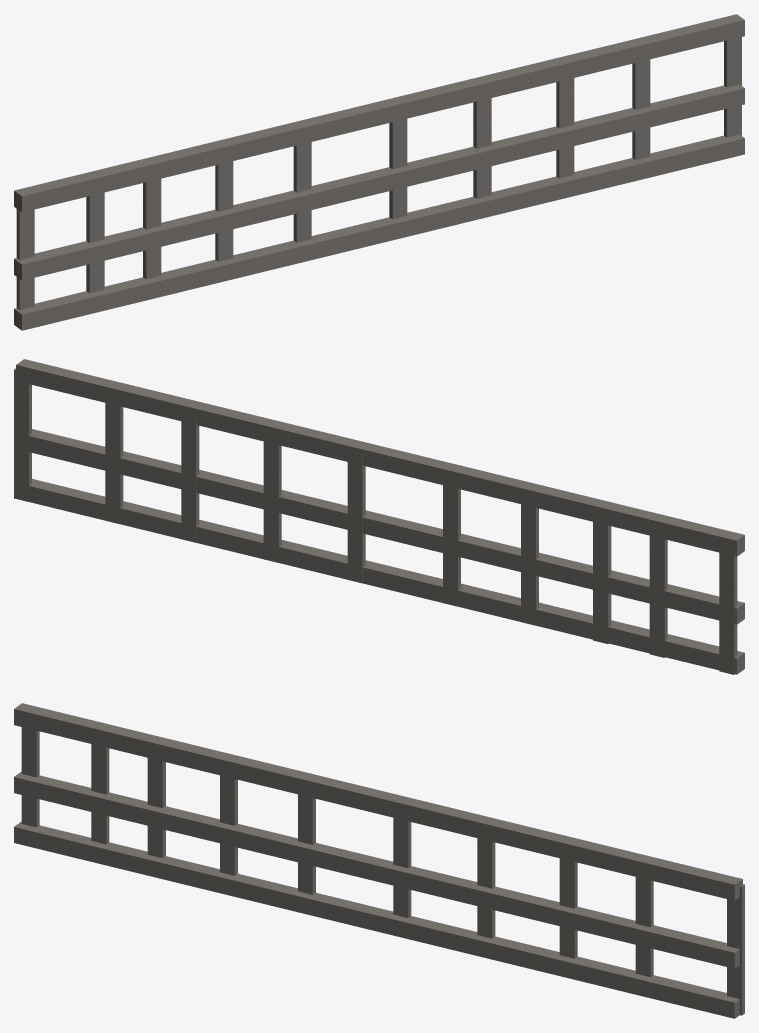
File: railing.fbx
The picture shows the model from 3 angles, top to bottom: view 1: azimuth 30°, elevation 25°; view 2: azimuth 150°, elevation 25°; view 3: azimuth 330°, elevation 25°; orthographic projection.
Parts seen in each view (by area): view 1: Box007, Box005, Box006, Box008, Box013, Box009, Box014, Box010, Box012, Box015, Box017, Box011 (+1 smaller); view 2: Box007, Box005, Box006, Box013, Box012, Box008, Box015, Box017, Box014, Box009, Box011, Box010 (+1 smaller); view 3: Box007, Box005, Box006, Box016, Box014, Box008, Box015, Box017, Box009, Box012, Box013, Box011 (+1 smaller).
Part boxes in pixels (box(x1,y1,x2,y2)): Box007: box(14, 14, 744, 212); Box005: box(14, 134, 744, 330); Box006: box(14, 84, 744, 280); Box008: box(16, 209, 34, 310); Box013: box(473, 98, 491, 198); Box009: box(143, 179, 161, 279); Box014: box(556, 78, 574, 178); Box010: box(215, 161, 233, 261); Box012: box(389, 118, 407, 219); Box015: box(632, 59, 650, 159); Box017: box(86, 192, 104, 293); Box011: box(293, 142, 311, 242); Box007: box(16, 359, 744, 556); Box005: box(29, 479, 744, 674); Box006: box(29, 429, 744, 624); Box013: box(263, 430, 281, 562); Box012: box(347, 451, 365, 583); Box008: box(719, 542, 737, 674); Box015: box(105, 392, 123, 524); Box017: box(649, 525, 667, 657); Box014: box(181, 410, 199, 542); Box009: box(593, 511, 611, 643); Box011: box(443, 474, 460, 606); Box010: box(521, 493, 538, 625); Box007: box(14, 703, 742, 900); Box005: box(14, 821, 739, 1018); Box006: box(14, 771, 739, 968); Box016: box(727, 884, 744, 1015); Box014: box(559, 858, 577, 958); Box008: box(21, 727, 39, 827); Box015: box(635, 877, 653, 977); Box017: box(91, 744, 109, 844); Box009: box(147, 758, 165, 858); Box012: box(393, 817, 411, 917); Box013: box(477, 838, 495, 938); Box011: box(298, 794, 315, 894).
Size of the model in its own units: 165 by 29.44 by 3.23.
